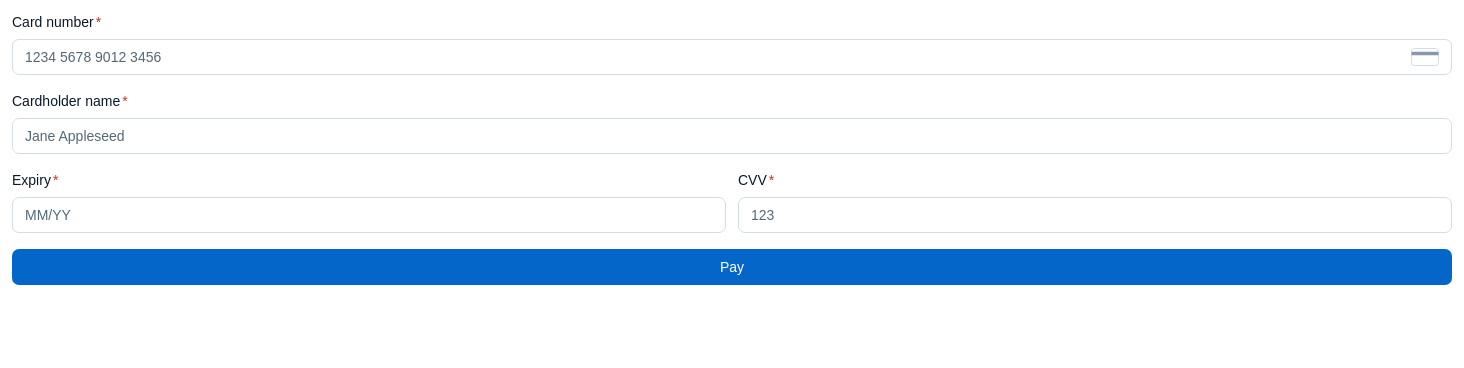
Test case: CreditCardForm › blocks submit and shows errors for an invalid card
Click the button "Pay": (732, 267) [12,249,1452,285]
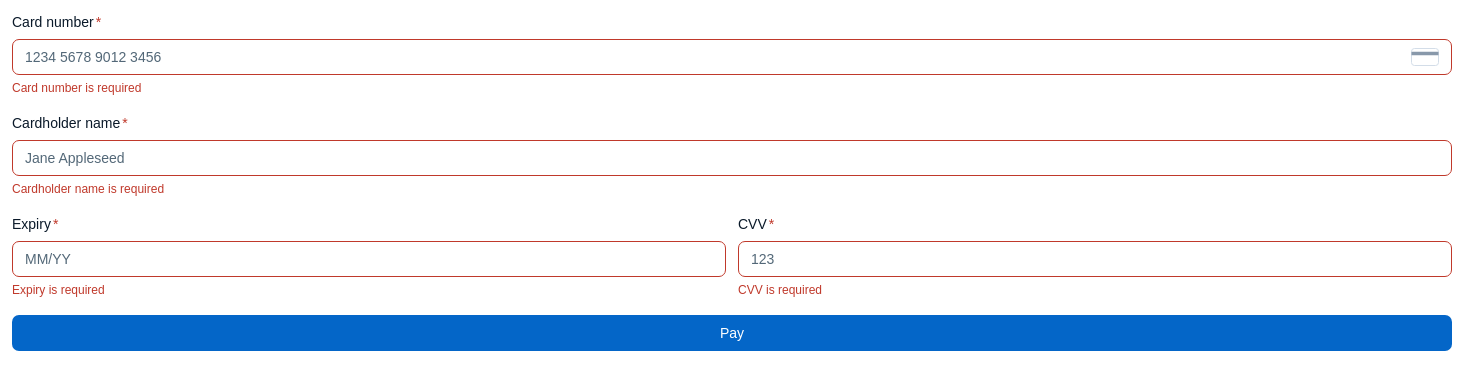
Expected: the text "Card number is required" is shown, [12,81,141,95]
